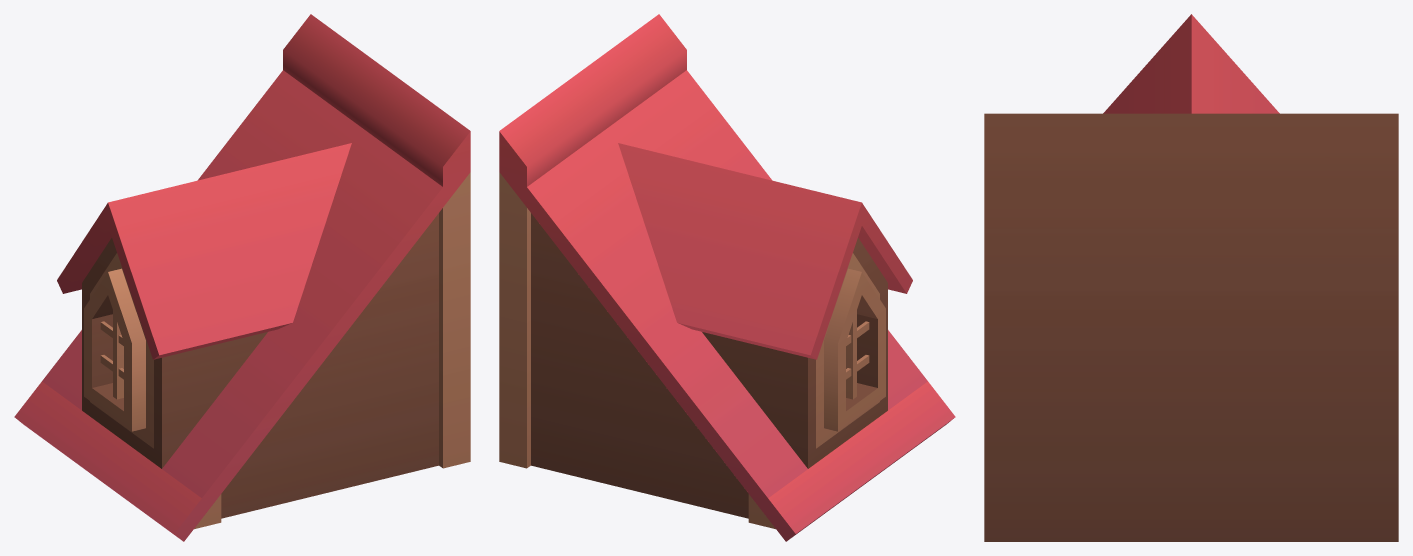
File: roof-high-window.glb
3 views of the same model, side by side, from view 1: azimuth 30°, elevation 25°; view 2: azimuth 150°, elevation 25°; view 3: azimuth 270°, elevation 25° (orthographic). The views are drawn at different scales.
Visible parts, largest first — view 1: roof-high-window; view 2: roof-high-window; view 3: roof-high-window.
Boxes of the visible parts, x1,y1,x2,y2 form: roof-high-window: (14, 14, 470, 541); roof-high-window: (499, 14, 955, 541); roof-high-window: (984, 14, 1398, 541).
Bounding box in the file's own units: 1.07 × 1.18 × 1.
Materials: 1 (1 with a texture image).
